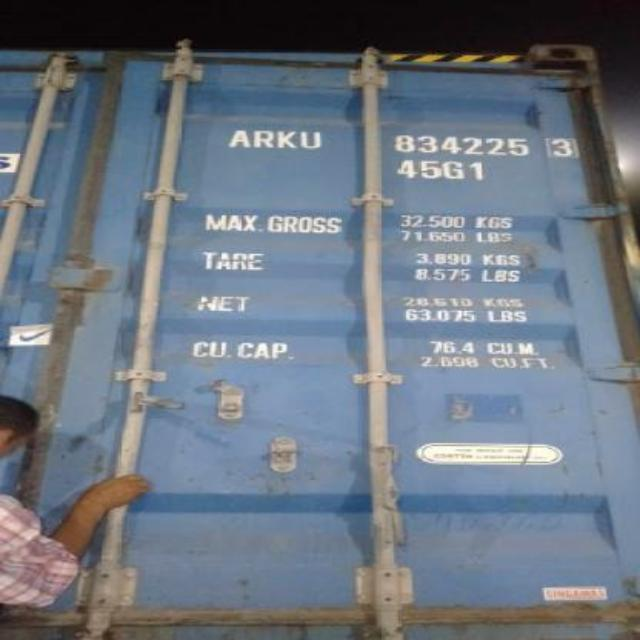2: (460, 132, 486, 158), (480, 132, 506, 156)
3: (548, 136, 578, 162), (416, 131, 438, 157)
4: (436, 130, 464, 160)
5: (506, 132, 532, 158)
8: (392, 133, 416, 157)
A: (230, 125, 250, 152)
K: (274, 124, 298, 152)
R: (250, 124, 276, 152)
U: (294, 126, 324, 156)
